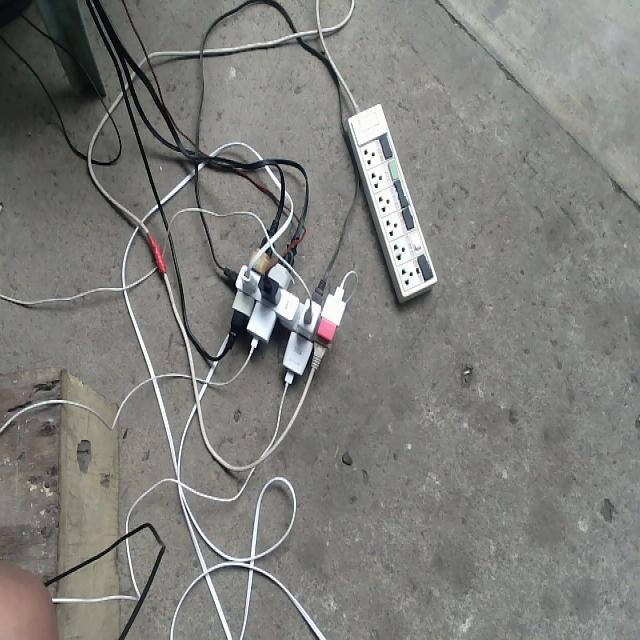-: (221, 227, 345, 384)
